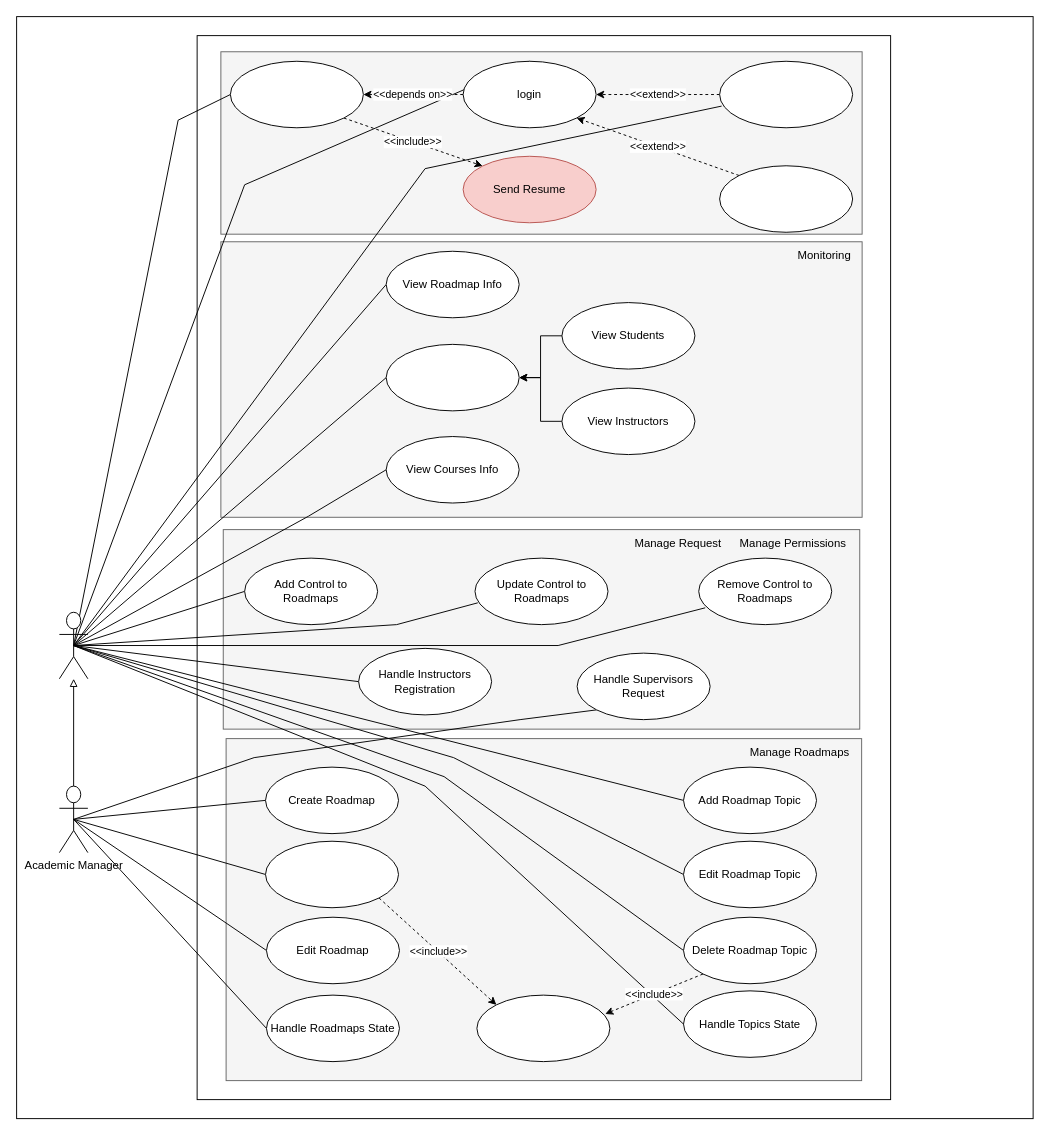
Image size: 1050x1135. Some labels were removed from this diagram. The box of each missing label's shape, as (x1, y1, x2, y2) in pixels:
Academic Supervisor: (58, 611, 88, 679)
Check Courses Existence: (476, 994, 610, 1062)
logout: (719, 165, 853, 232)
Manage Profile: (719, 60, 853, 128)
Register with Platform: (229, 60, 363, 128)
Remove Roadmap: (265, 840, 399, 908)
View the Supervised: (385, 343, 519, 411)
